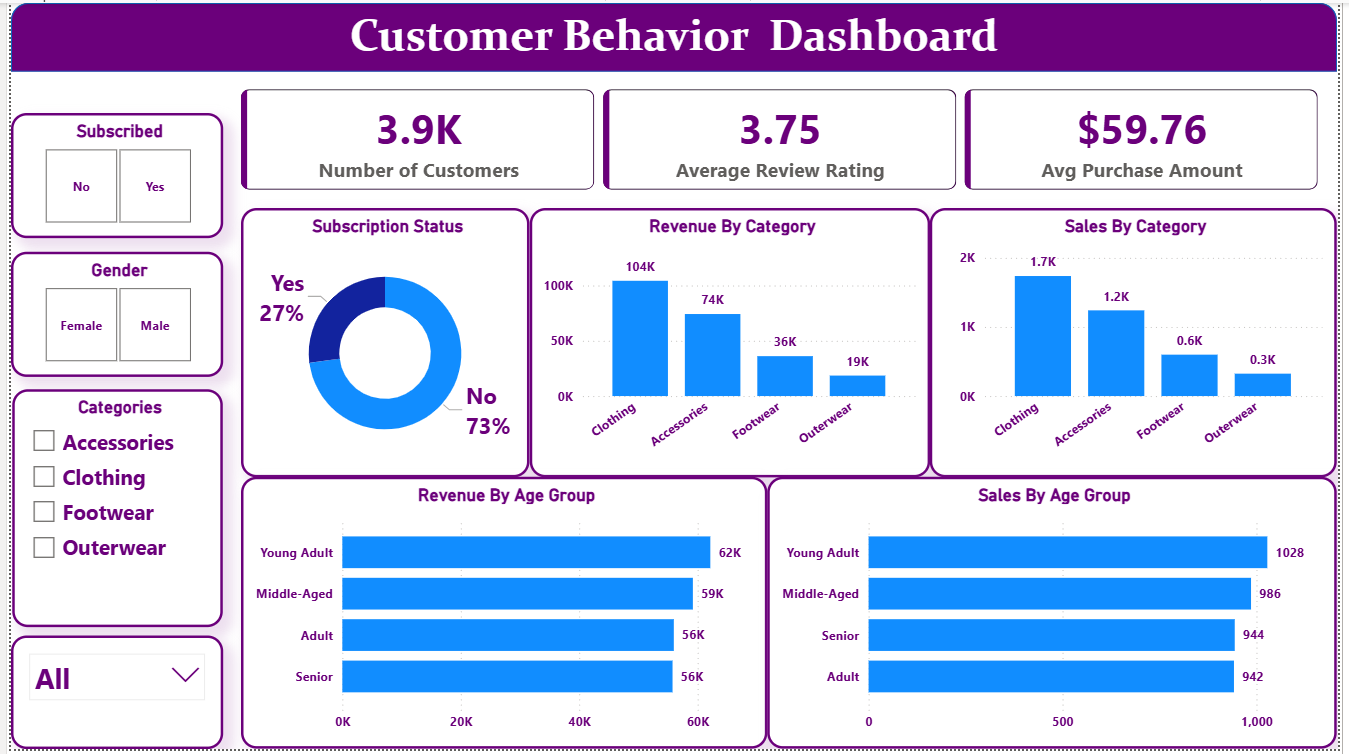

The page's visual inventory and layout, read from the dashboard file:
{"tool":"powerbi","page":{"name":"Page 1","canvas":[1280,720],"ordinal":0},"visuals":[{"type":"cardVisual","fields":{"Data":["public Customer.Number of Customers","public Customer.Average Review Rating","public Customer.Avg Purchase Amount"]},"box":[204.9,66.4,1074.9,131.3],"z":0},{"type":"shape","box":[0,0,1279.7,66.4],"z":1},{"type":"textbox","box":[0,0,1279.7,66.4],"z":2},{"type":"donutChart","title":"Subscription Status","fields":{"Category":["public Customer.subscription_status"],"Y":["CountNonNull(public Customer.customer_id)"]},"box":[222.2,197.7,278.5,259.7],"z":4},{"type":"clusteredColumnChart","title":"Revenue By Category","fields":{"Category":["public Customer.category"],"Y":["Sum(public Customer.purchase_amount)"]},"box":[500.6,197.7,386.7,259.7],"z":5},{"type":"clusteredColumnChart","title":"Sales By Category","fields":{"Category":["public Customer.category"],"Y":["CountNonNull(public Customer.customer_id)"]},"box":[887.3,197.7,392.4,259.7],"z":6},{"type":"slicer","title":"Subscribed","fields":{"Values":["public Customer.subscription_status"]},"box":[0,106.8,204.9,121.2],"z":8},{"type":"slicer","title":"Gender","fields":{"Values":["public Customer.gender"]},"box":[0,239.5,204.9,121.2],"z":9},{"type":"slicer","title":"Categories","fields":{"Values":["public Customer.category"]},"box":[1.4,372.2,203.4,229.4],"z":10},{"type":"slicer","fields":{"Values":["public Customer.shipping_type"]},"box":[0,610.3,204.9,109.6],"z":11},{"type":"barChart","title":"Revenue By Age Group","fields":{"Y":["Sum(public Customer.purchase_amount)"],"Category":["public Customer.age_group"]},"box":[222.2,457.4,507.9,262.6],"z":12},{"type":"barChart","title":"Sales By Age Group","fields":{"Category":["public Customer.age_group"],"Y":["CountNonNull(public Customer.customer_id)"]},"box":[730,457.4,549.7,262.6],"z":13}]}

Visuals, with their boxes in screenshot pixels (x1, y1, x2, y2), scaled from the page's 1280x720 canvas onto the 1349x754 screenshot:
cardVisual - public Customer.Number of Customers x public Customer.Average Review Rating: bbox=[216, 70, 1348, 207]
shape: bbox=[0, 0, 1348, 70]
textbox: bbox=[0, 0, 1348, 70]
"Subscription Status" donutChart: bbox=[234, 207, 528, 479]
"Revenue By Category" clusteredColumnChart: bbox=[528, 207, 935, 479]
"Sales By Category" clusteredColumnChart: bbox=[935, 207, 1348, 479]
"Subscribed" slicer: bbox=[0, 112, 216, 239]
"Gender" slicer: bbox=[0, 251, 216, 378]
"Categories" slicer: bbox=[1, 390, 216, 630]
slicer - public Customer.shipping_type: bbox=[0, 639, 216, 753]
"Revenue By Age Group" barChart: bbox=[234, 479, 769, 753]
"Sales By Age Group" barChart: bbox=[769, 479, 1348, 753]
